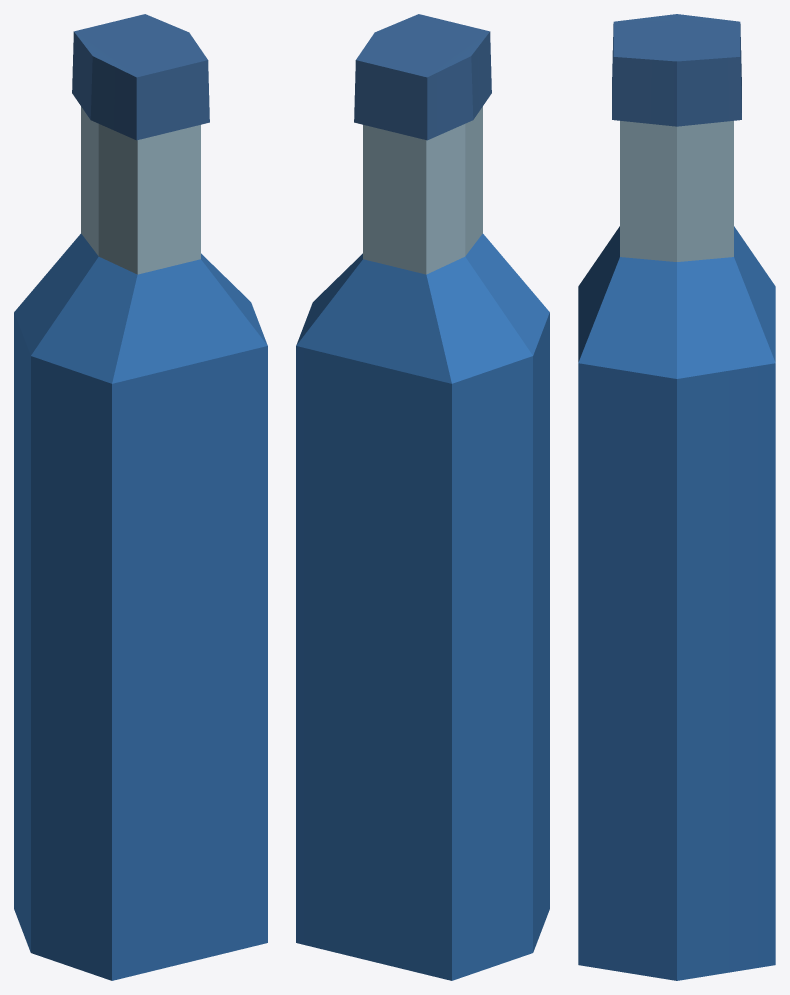
File: Shampoo_02.fbx
3 views of the same model, side by side, from view 1: azimuth 30°, elevation 25°; view 2: azimuth 150°, elevation 25°; view 3: azimuth 270°, elevation 25° (orthographic).
Parts seen in each view (by area): view 1: Shampoo_02; view 2: Shampoo_02; view 3: Shampoo_02.
Boxes of the visible parts, bbox=[...] form: Shampoo_02: bbox=[14, 14, 267, 980]; Shampoo_02: bbox=[296, 14, 549, 980]; Shampoo_02: bbox=[578, 14, 775, 980].
Bounding box in the file's own units: 5.66 × 21.65 × 4.36.
